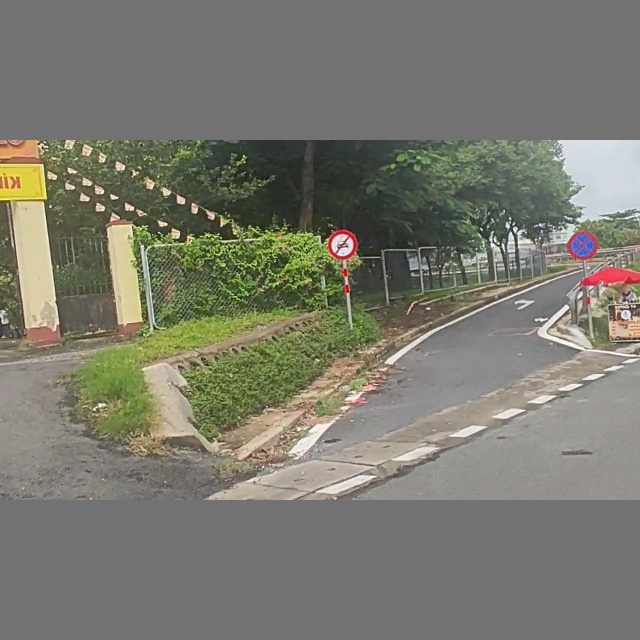P.103a: (327, 229, 358, 260)
P.130: (567, 231, 599, 261)
